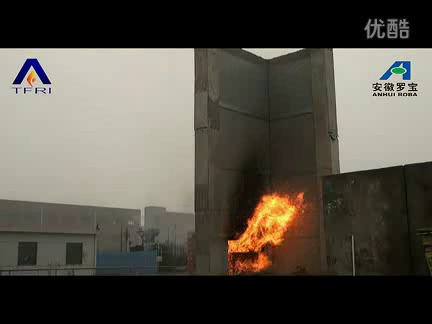fire: (225, 188, 311, 277)
